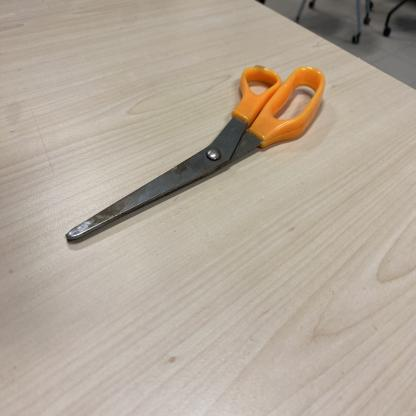scissors: (66, 66, 327, 244)
